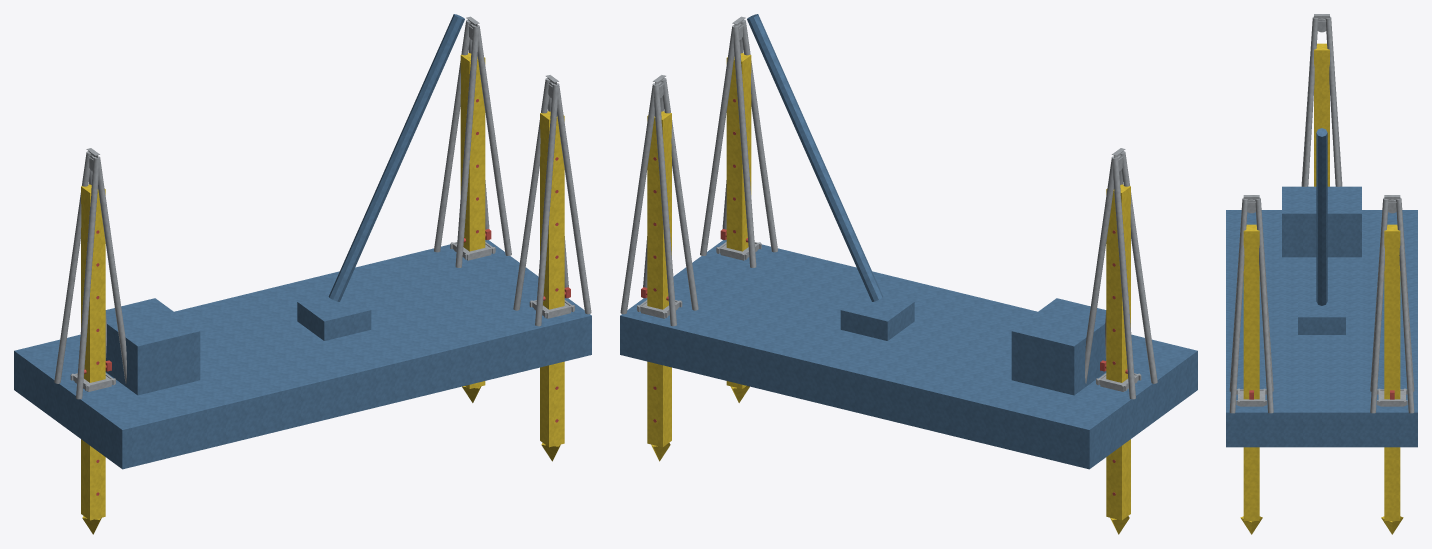
The model's file is spud-barges-spuds-and-spud-wells.glb.
The picture shows the model from 3 angles, left to right: view 1: azimuth 30°, elevation 25°; view 2: azimuth 150°, elevation 25°; view 3: azimuth 270°, elevation 25°; orthographic projection. The views are drawn at different scales.
Parts seen in each view (by area): view 1: Barge&Crane(context), Spuds, SpudGantries&Sheaves, SpudWells&Guides; view 2: Barge&Crane(context), Spuds, SpudGantries&Sheaves, SpudWells&Guides; view 3: Barge&Crane(context), Spuds, SpudGantries&Sheaves, SpudWells&Guides.
Boxes of the visible parts, x1,y1,x2,y2 form: Barge&Crane(context): (14,14,591,469); Spuds: (81,53,564,534); SpudGantries&Sheaves: (54,16,591,399); SpudWells&Guides: (70,242,574,391); Barge&Crane(context): (620,14,1197,469); Spuds: (647,53,1130,534); SpudGantries&Sheaves: (620,16,1157,399); SpudWells&Guides: (637,242,1141,391); Barge&Crane(context): (1226,128,1417,447); Spuds: (1240,43,1403,534); SpudGantries&Sheaves: (1229,14,1414,413); SpudWells&Guides: (1236,388,1407,406).
Bounding box in the file's own units: 30.36 × 26.36 × 12.
4 materials, 4 textured.
